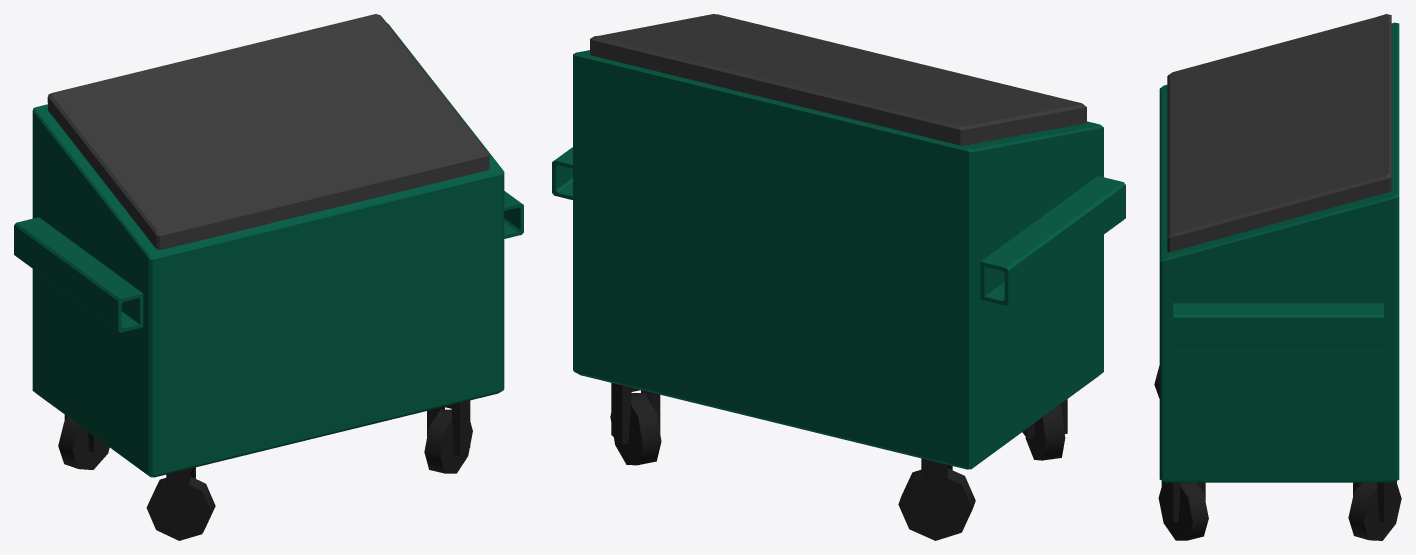
The model's file is wheeledDumpster.glb.
3 views of the same model, side by side, from view 1: azimuth 30°, elevation 25°; view 2: azimuth 150°, elevation 25°; view 3: azimuth 270°, elevation 25° (orthographic). The views are drawn at different scales.
Visible parts, largest first — view 1: SM_Container; view 2: SM_Container; view 3: SM_Container.
Part boxes in pixels (x1,y1,x2,y2): SM_Container: (14, 14, 523, 540); SM_Container: (552, 14, 1125, 540); SM_Container: (1154, 14, 1401, 540).
Size of the model in its own units: 1.93 by 1.71 by 1.01.
